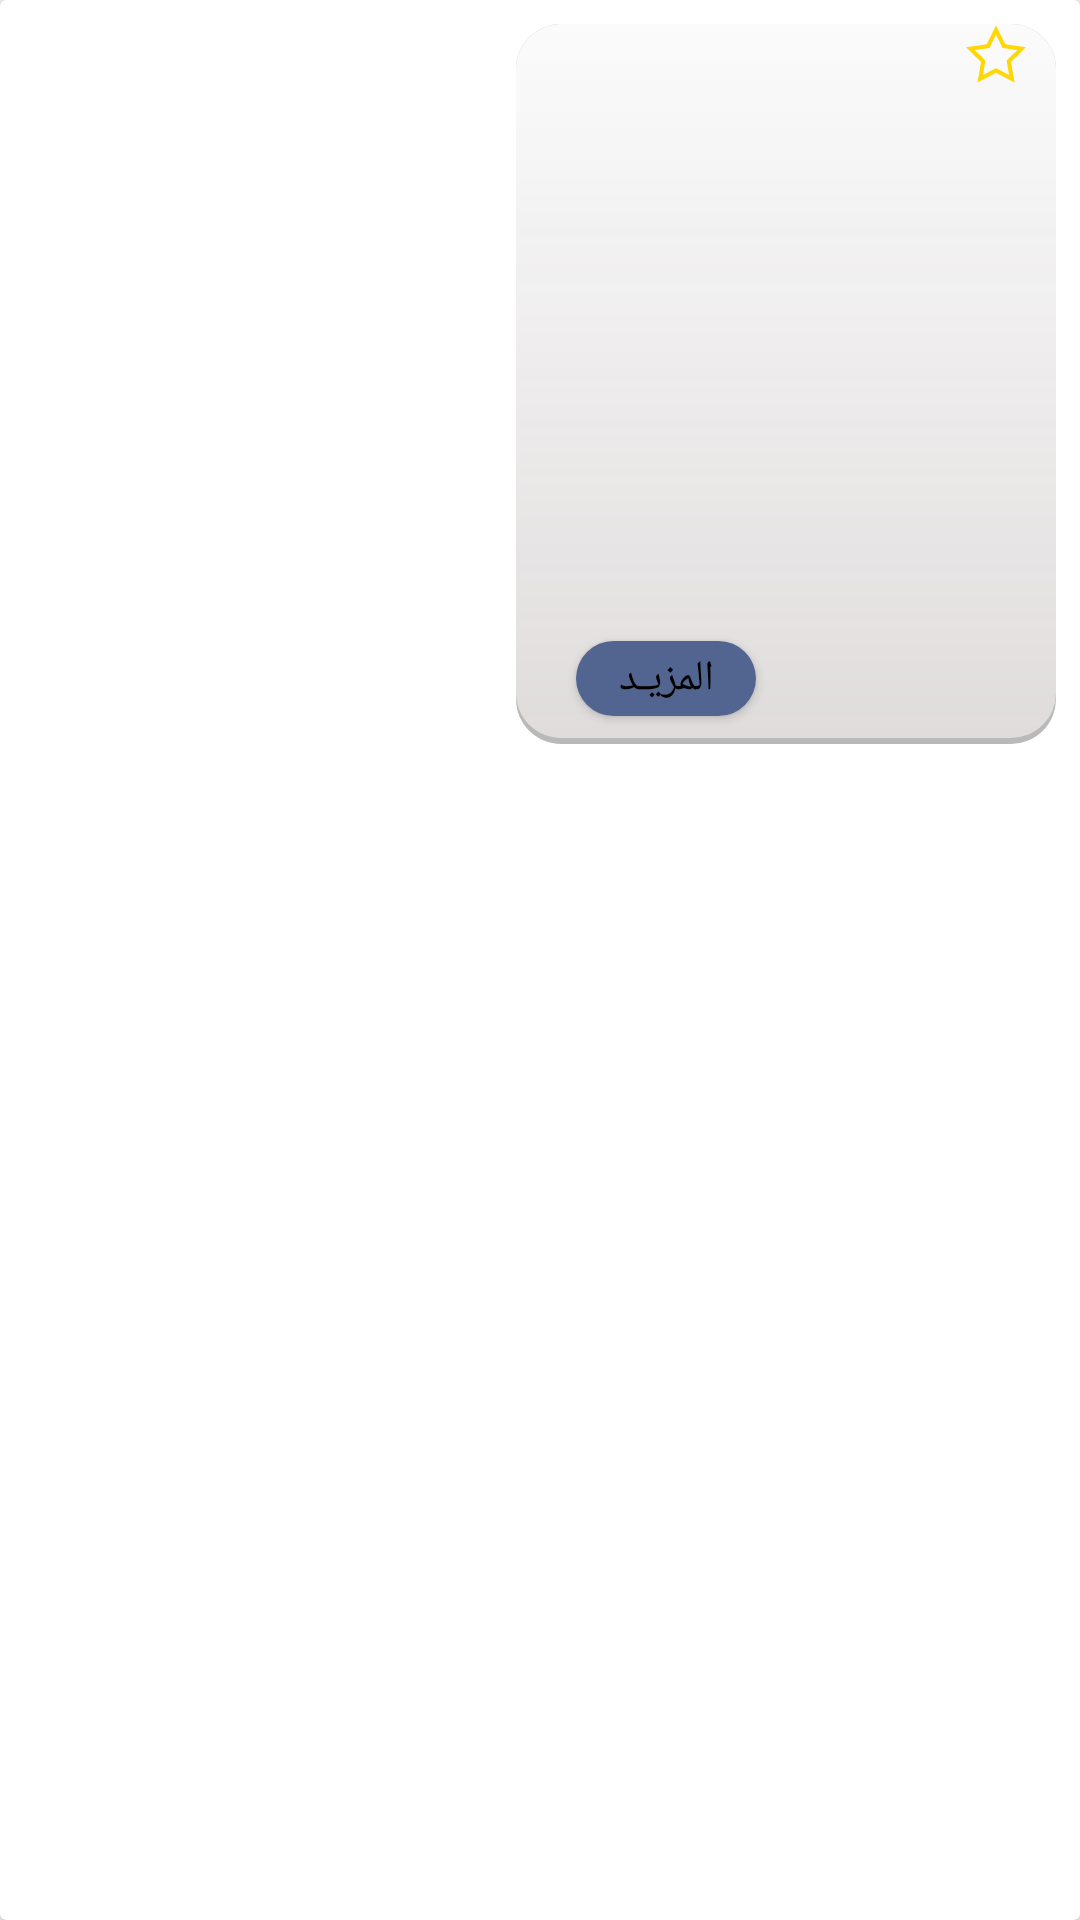

Icons on this 1080×1920 Android screen, each with the point to tap as [x,y]:
star: [996,54]
